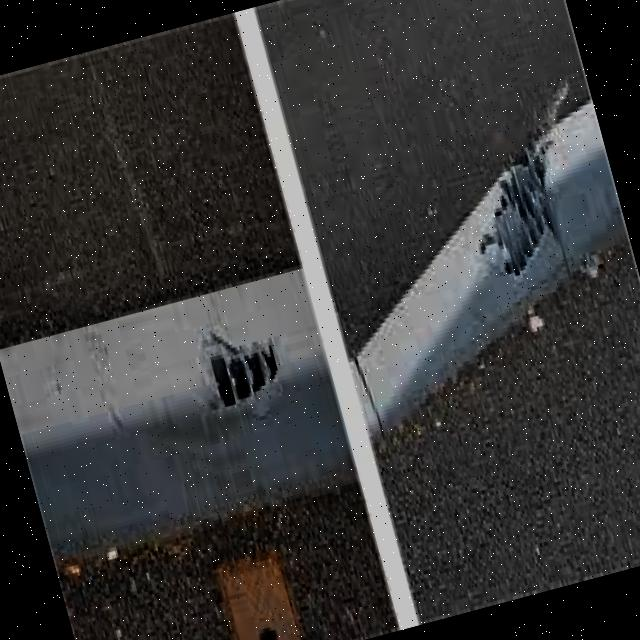curb: (4, 267, 352, 567), (358, 151, 574, 442)
